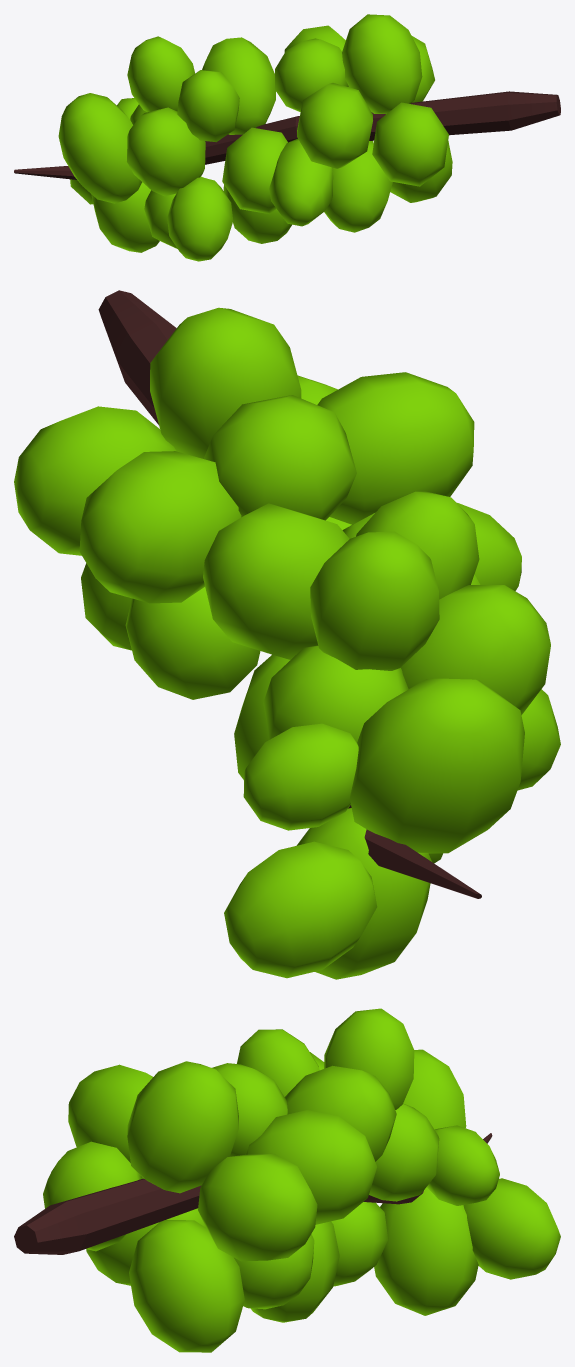
The model's file is Grapes.fbx.
The picture shows the model from 3 angles, top to bottom: view 1: azimuth 30°, elevation 25°; view 2: azimuth 150°, elevation 25°; view 3: azimuth 270°, elevation 25°; orthographic projection. The views are drawn at different scales.
Parts seen in each view (by area): view 1: Grapes; view 2: Grapes; view 3: Grapes.
Part boxes in pixels (x1,y1,x2,y2): Grapes: [14, 14, 560, 261]; Grapes: [14, 290, 560, 979]; Grapes: [14, 1008, 560, 1352].
Bounding box in the file's own units: 17.38 × 11.33 × 16.29.
